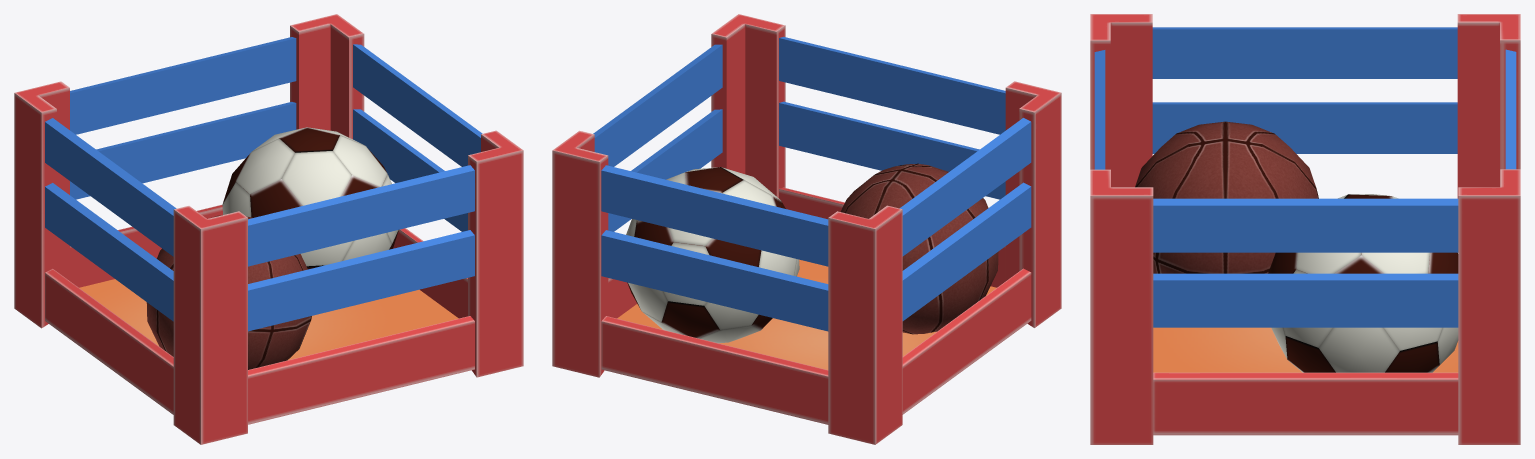
Rendered from bg_ballbox.FBX.
3 views of the same model, side by side, from view 1: azimuth 30°, elevation 25°; view 2: azimuth 150°, elevation 25°; view 3: azimuth 270°, elevation 25° (orthographic). The views are drawn at different scales.
Parts seen in each view (by area): view 1: bg_box, bg_ball002, ball2; view 2: bg_box, bg_ball002, ball2; view 3: bg_box, ball2, bg_ball002.
Part boxes in pixels (bbox=[...]): bg_box: bbox=[14, 14, 523, 444]; bg_ball002: bbox=[222, 127, 398, 269]; ball2: bbox=[146, 215, 311, 369]; bg_box: bbox=[552, 14, 1061, 444]; bg_ball002: bbox=[626, 167, 799, 343]; ball2: bbox=[840, 163, 998, 334]; bg_box: bbox=[1090, 14, 1520, 444]; ball2: bbox=[1135, 121, 1318, 273]; bg_ball002: bbox=[1268, 194, 1458, 372].
Size of the model in its own units: 12.19 by 7.78 by 12.19.
